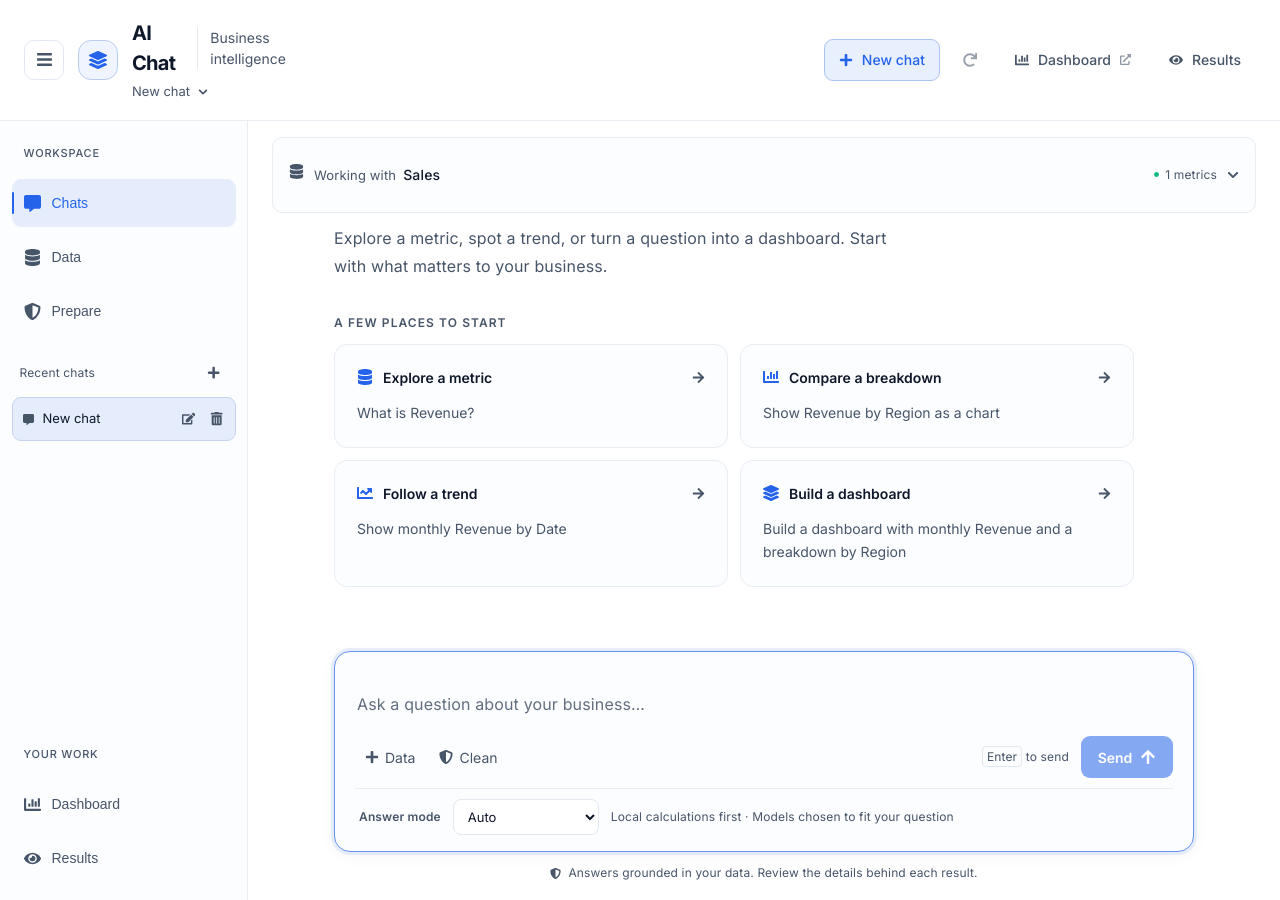
Test: clarification sends a backend-defined exact choice
The width and height of the screenshot is (1280, 900).
(page scrolled)
Type "Show revenue" into the text box named "Business question" at (764, 704), box [357,691,1171,717]
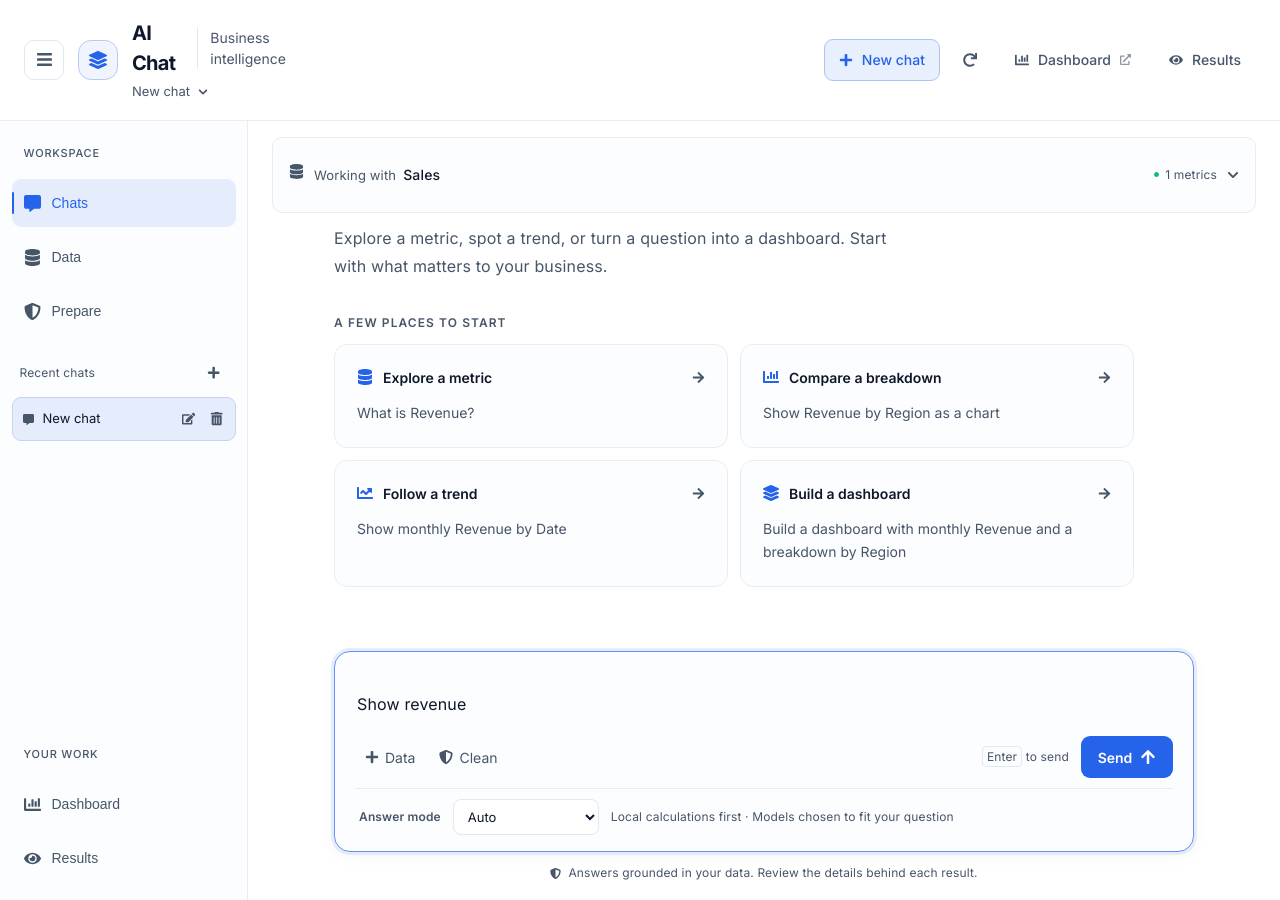
Click the button with aria-label "Send Message" at (1127, 757), box [1081,736,1173,778]
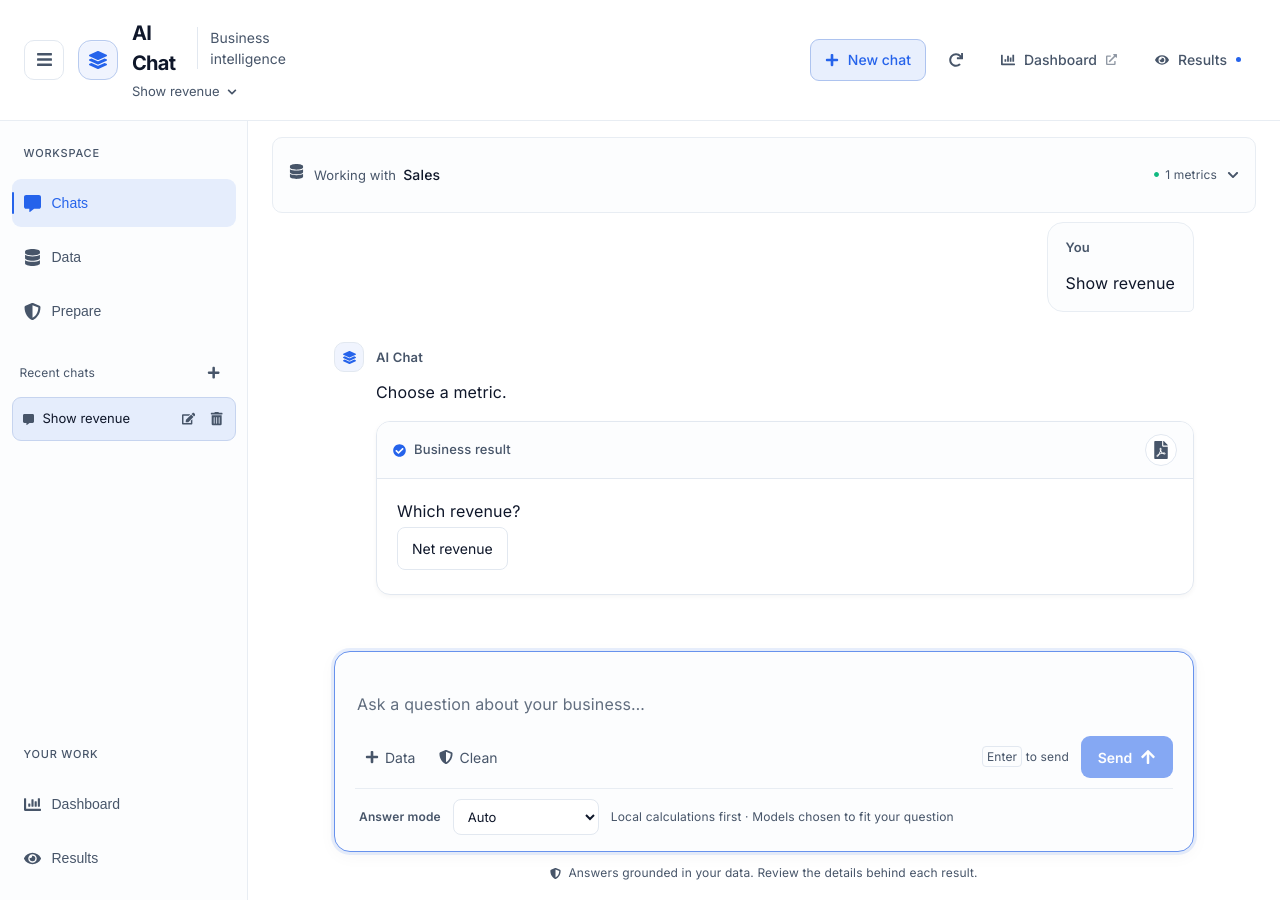
expect the text "Choose a metric." is shown: met, box [376,382,507,402]
Click the button "Net revenue" at (452, 549), box [397,527,508,570]
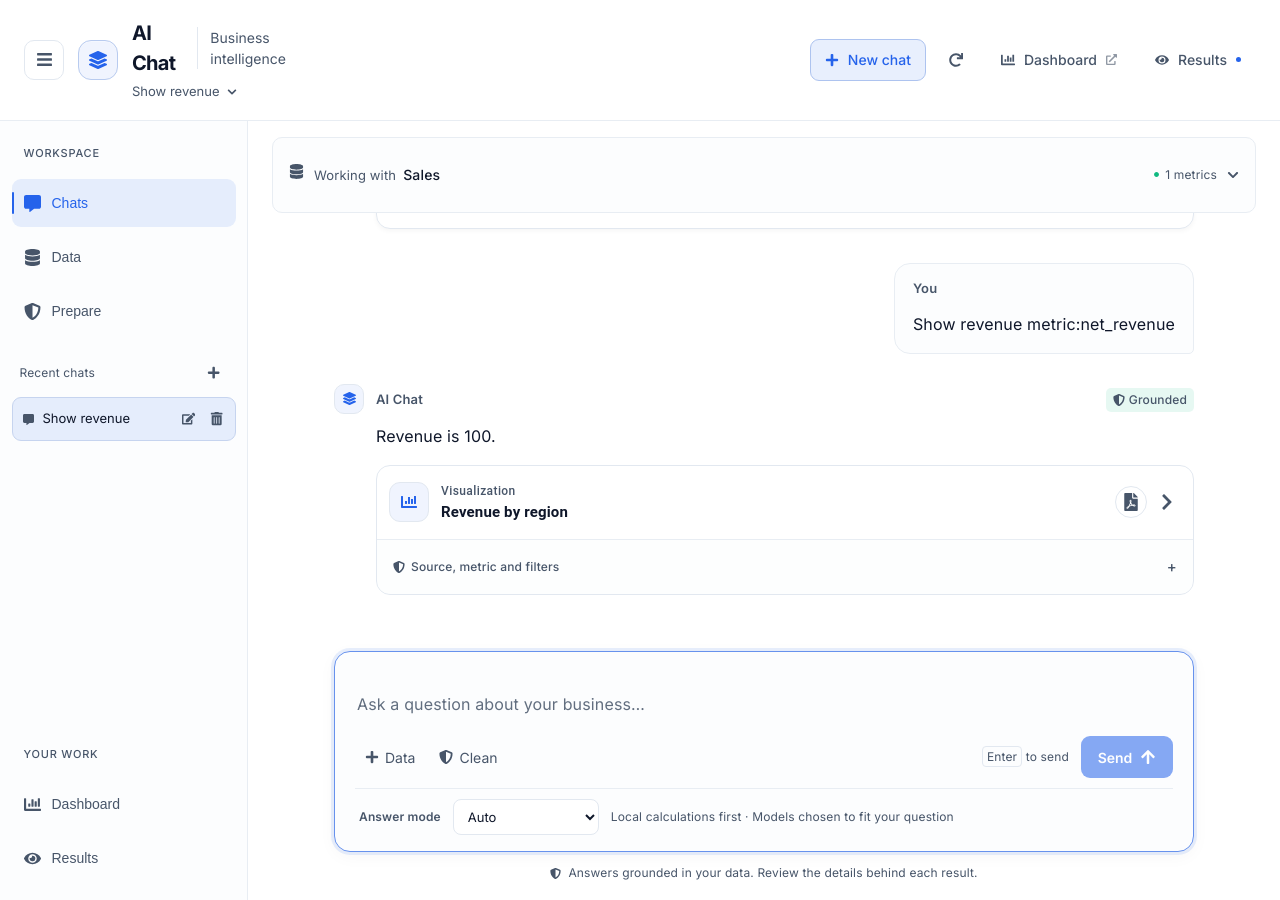
expect the text "Show revenue metric:net_revenue" is shown: met, box [913,310,1175,339]
expect the text "Revenue is 100." is shown: met, box [376,426,496,446]
